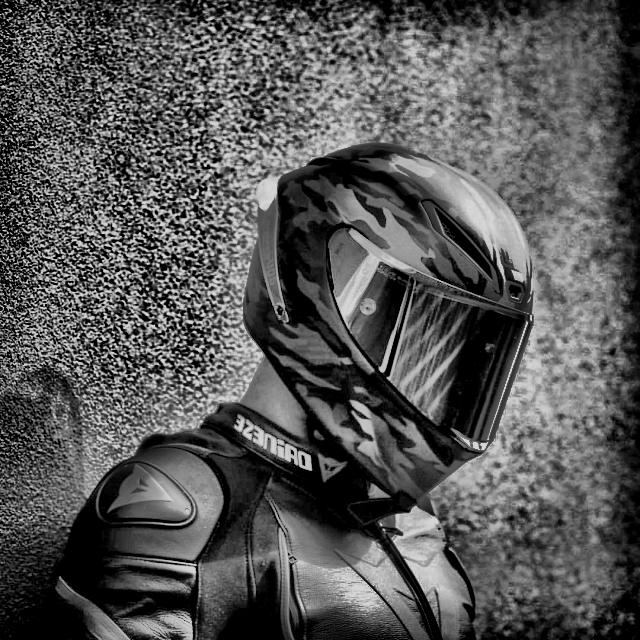Helmet: (237, 138, 542, 515)
